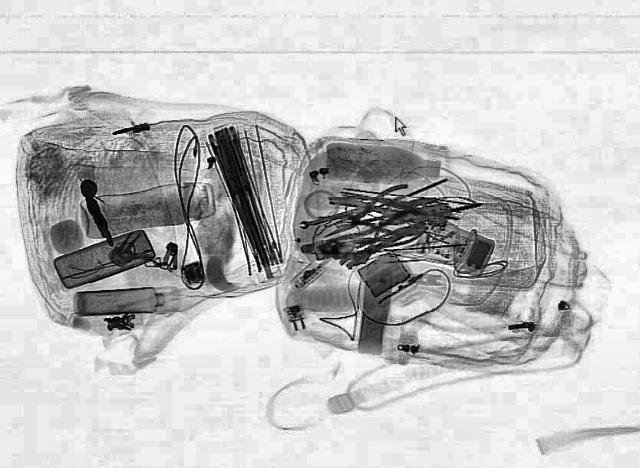Pliers: (310, 182, 428, 250), (316, 184, 446, 239)
